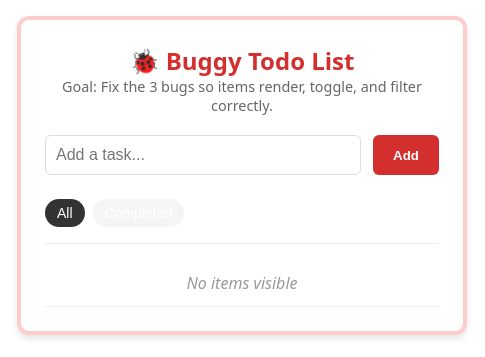
Test case: BuggyTodo Application › should display a new task when added
Type "Buy Groceries" into the field with placeholder "Add a task..." at (203, 155), box [45,135,361,175]
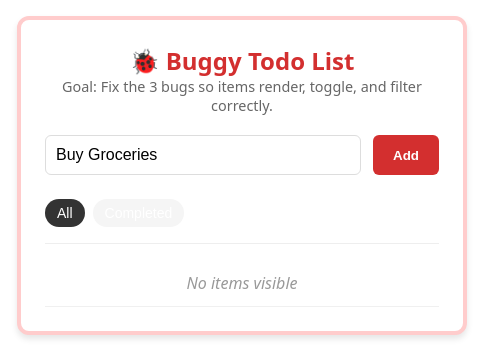
Click the button "Add" at (406, 155), box [373,135,439,175]
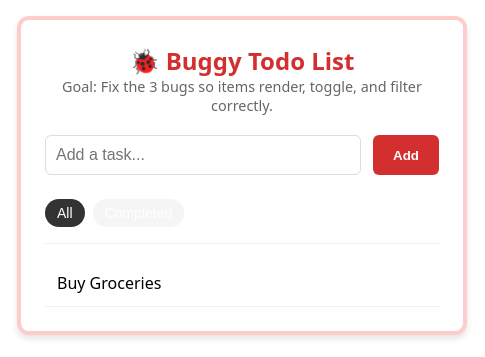
Result: the list item "Buy Groceries" is shown at [45,260,439,307]
